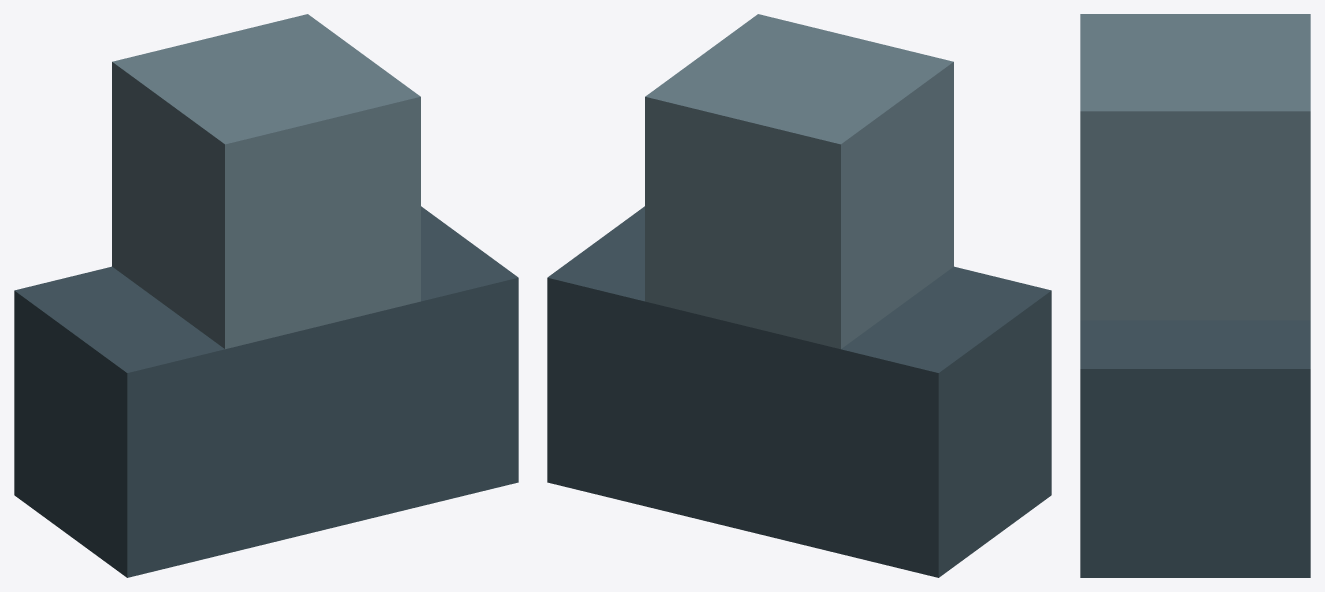
Rendered from sb03.arch-foot.palette.glb.
3 views of the same model, side by side, from view 1: azimuth 30°, elevation 25°; view 2: azimuth 150°, elevation 25°; view 3: azimuth 270°, elevation 25° (orthographic). The views are drawn at different scales.
Parts seen in each view (by area): view 1: VW.plinth.001, VW.springer.001; view 2: VW.plinth.001, VW.springer.001; view 3: VW.springer.001, VW.plinth.001.
Part boxes in pixels (x1,y1,x2,y2): VW.plinth.001: (14,206,518,577); VW.springer.001: (112,14,420,349); VW.plinth.001: (547,206,1051,577); VW.springer.001: (645,14,953,349); VW.springer.001: (1080,14,1310,320); VW.plinth.001: (1080,320,1310,577).
Bounding box in the file's own units: 0.5 × 0.5 × 0.25.
1 material, 1 textured.
